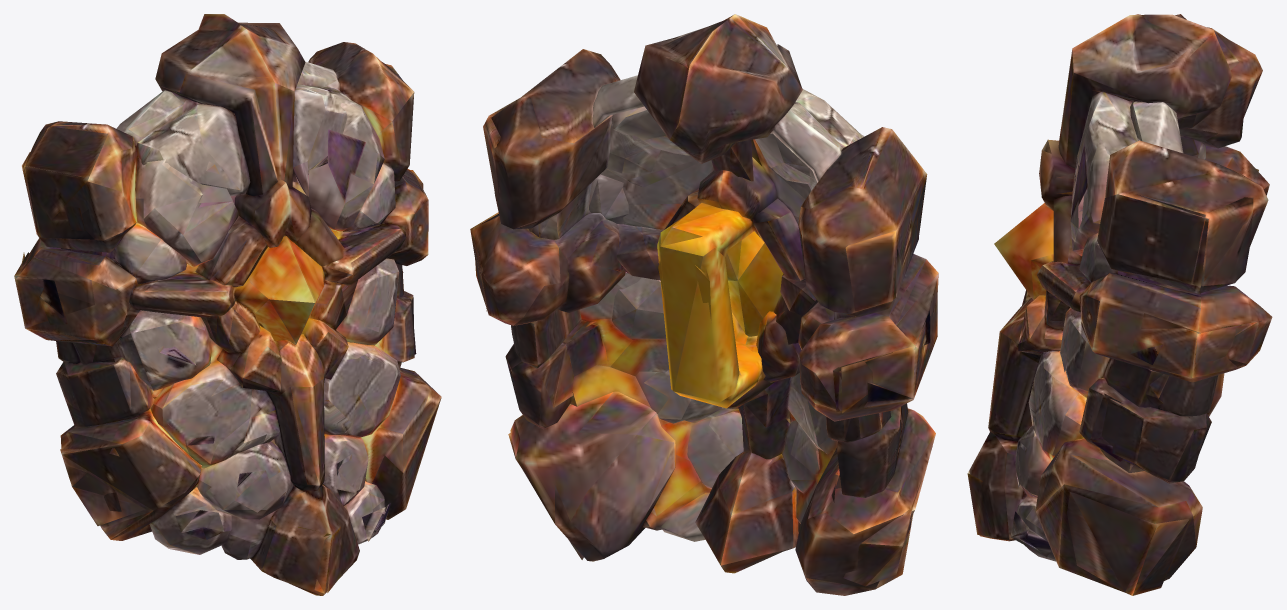
Rendered from crag_greatshield.glb.
3 views of the same model, side by side, from view 1: azimuth 30°, elevation 25°; view 2: azimuth 150°, elevation 25°; view 3: azimuth 270°, elevation 25° (orthographic). The views are drawn at different scales.
Size of the model in its own units: 1.62 by 2 by 1.06.
1 material, 1 textured.
